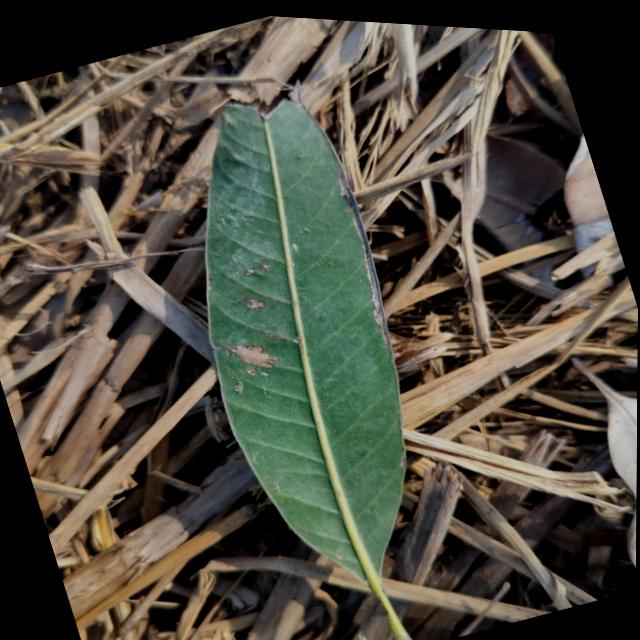Bacterial Cancer: (237, 340, 273, 375), (243, 291, 273, 315)
